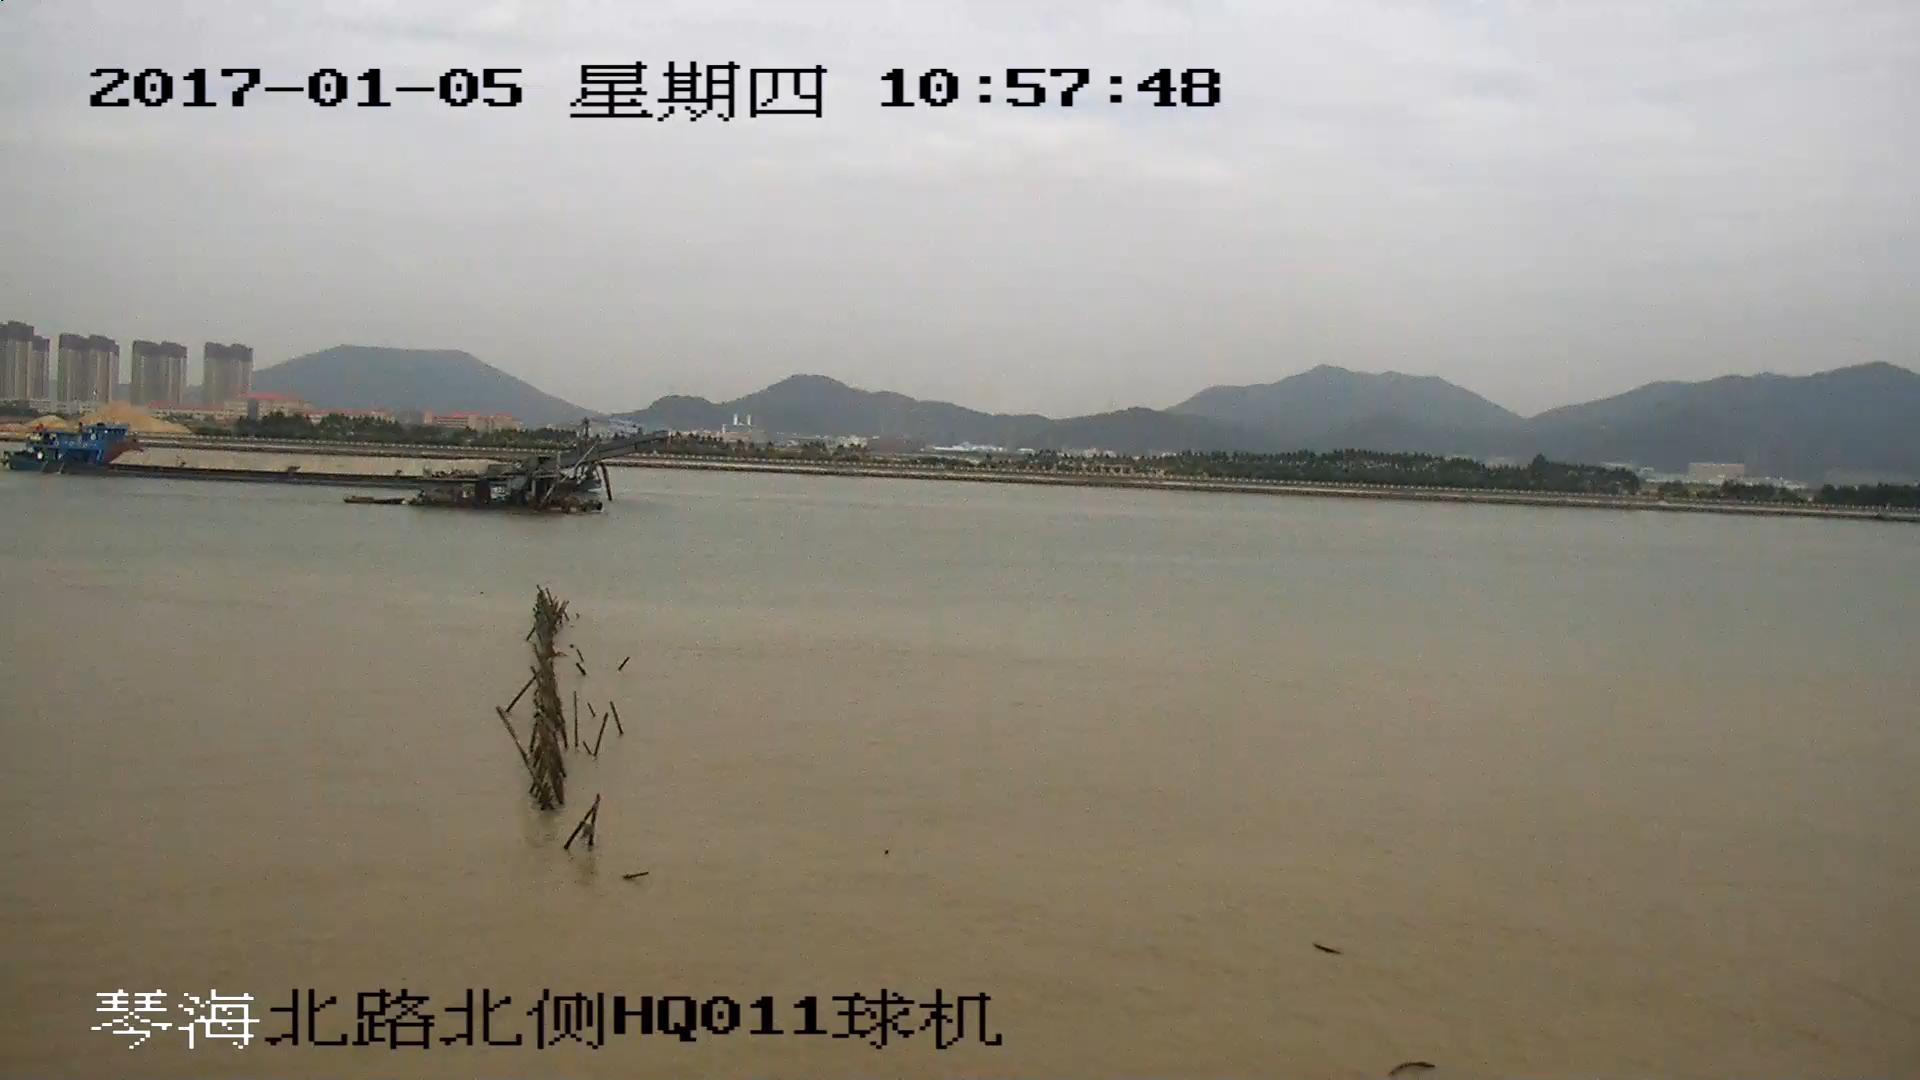ore carrier: (1, 420, 674, 506)
